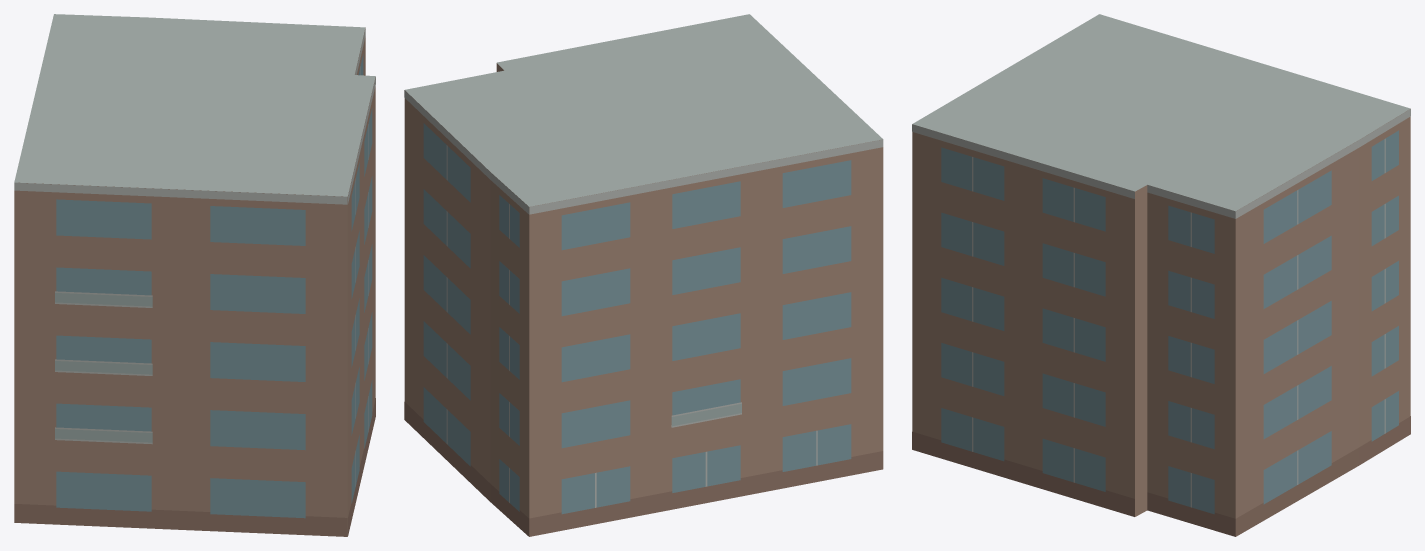
Rendered from survey-upis-32656889.glb.
3 renders of one model, left to right at view 1: azimuth 30°, elevation 25°; view 2: azimuth 150°, elevation 25°; view 3: azimuth 270°, elevation 25°, orthographic. The views are drawn at different scales.
Visible parts, largest first — view 1: survey-upis-32656889.tmp; view 2: survey-upis-32656889.tmp; view 3: survey-upis-32656889.tmp.
Part boxes in pixels (x1,y1,x2,y2): survey-upis-32656889.tmp: [14, 14, 375, 536]; survey-upis-32656889.tmp: [404, 14, 883, 536]; survey-upis-32656889.tmp: [912, 14, 1410, 536].
Size of the model in its own units: 13.39 by 10.3 by 14.31.
